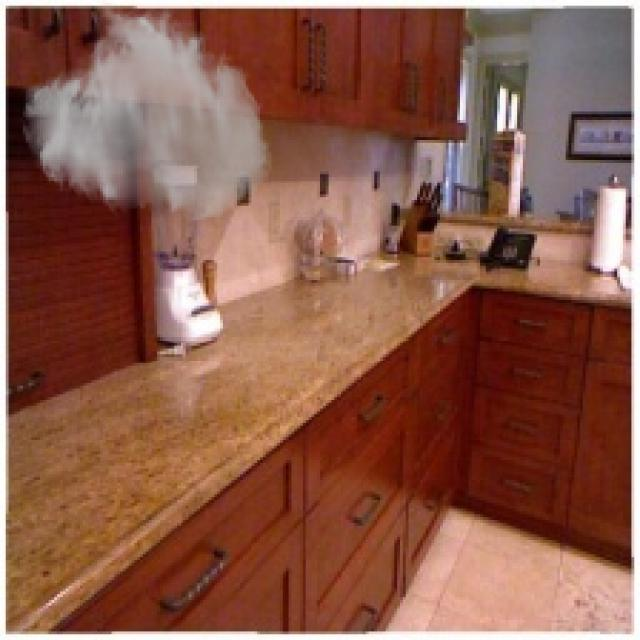smoke: (20, 0, 274, 223)
